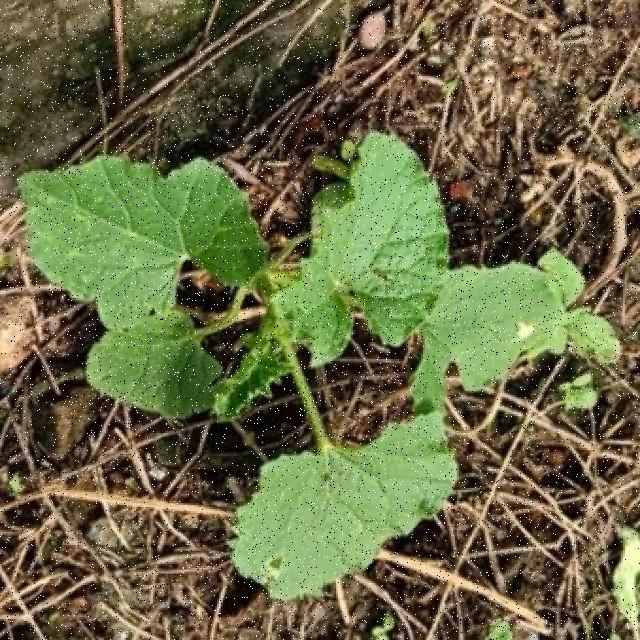plant: (20, 132, 620, 599)
